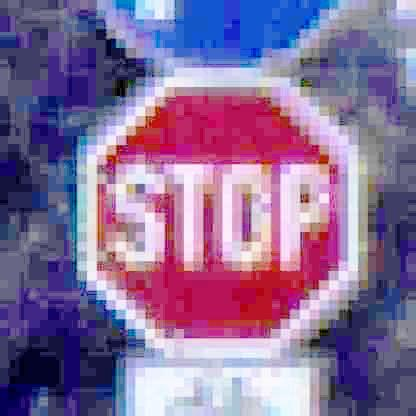Stop Sign: (79, 70, 367, 357)
